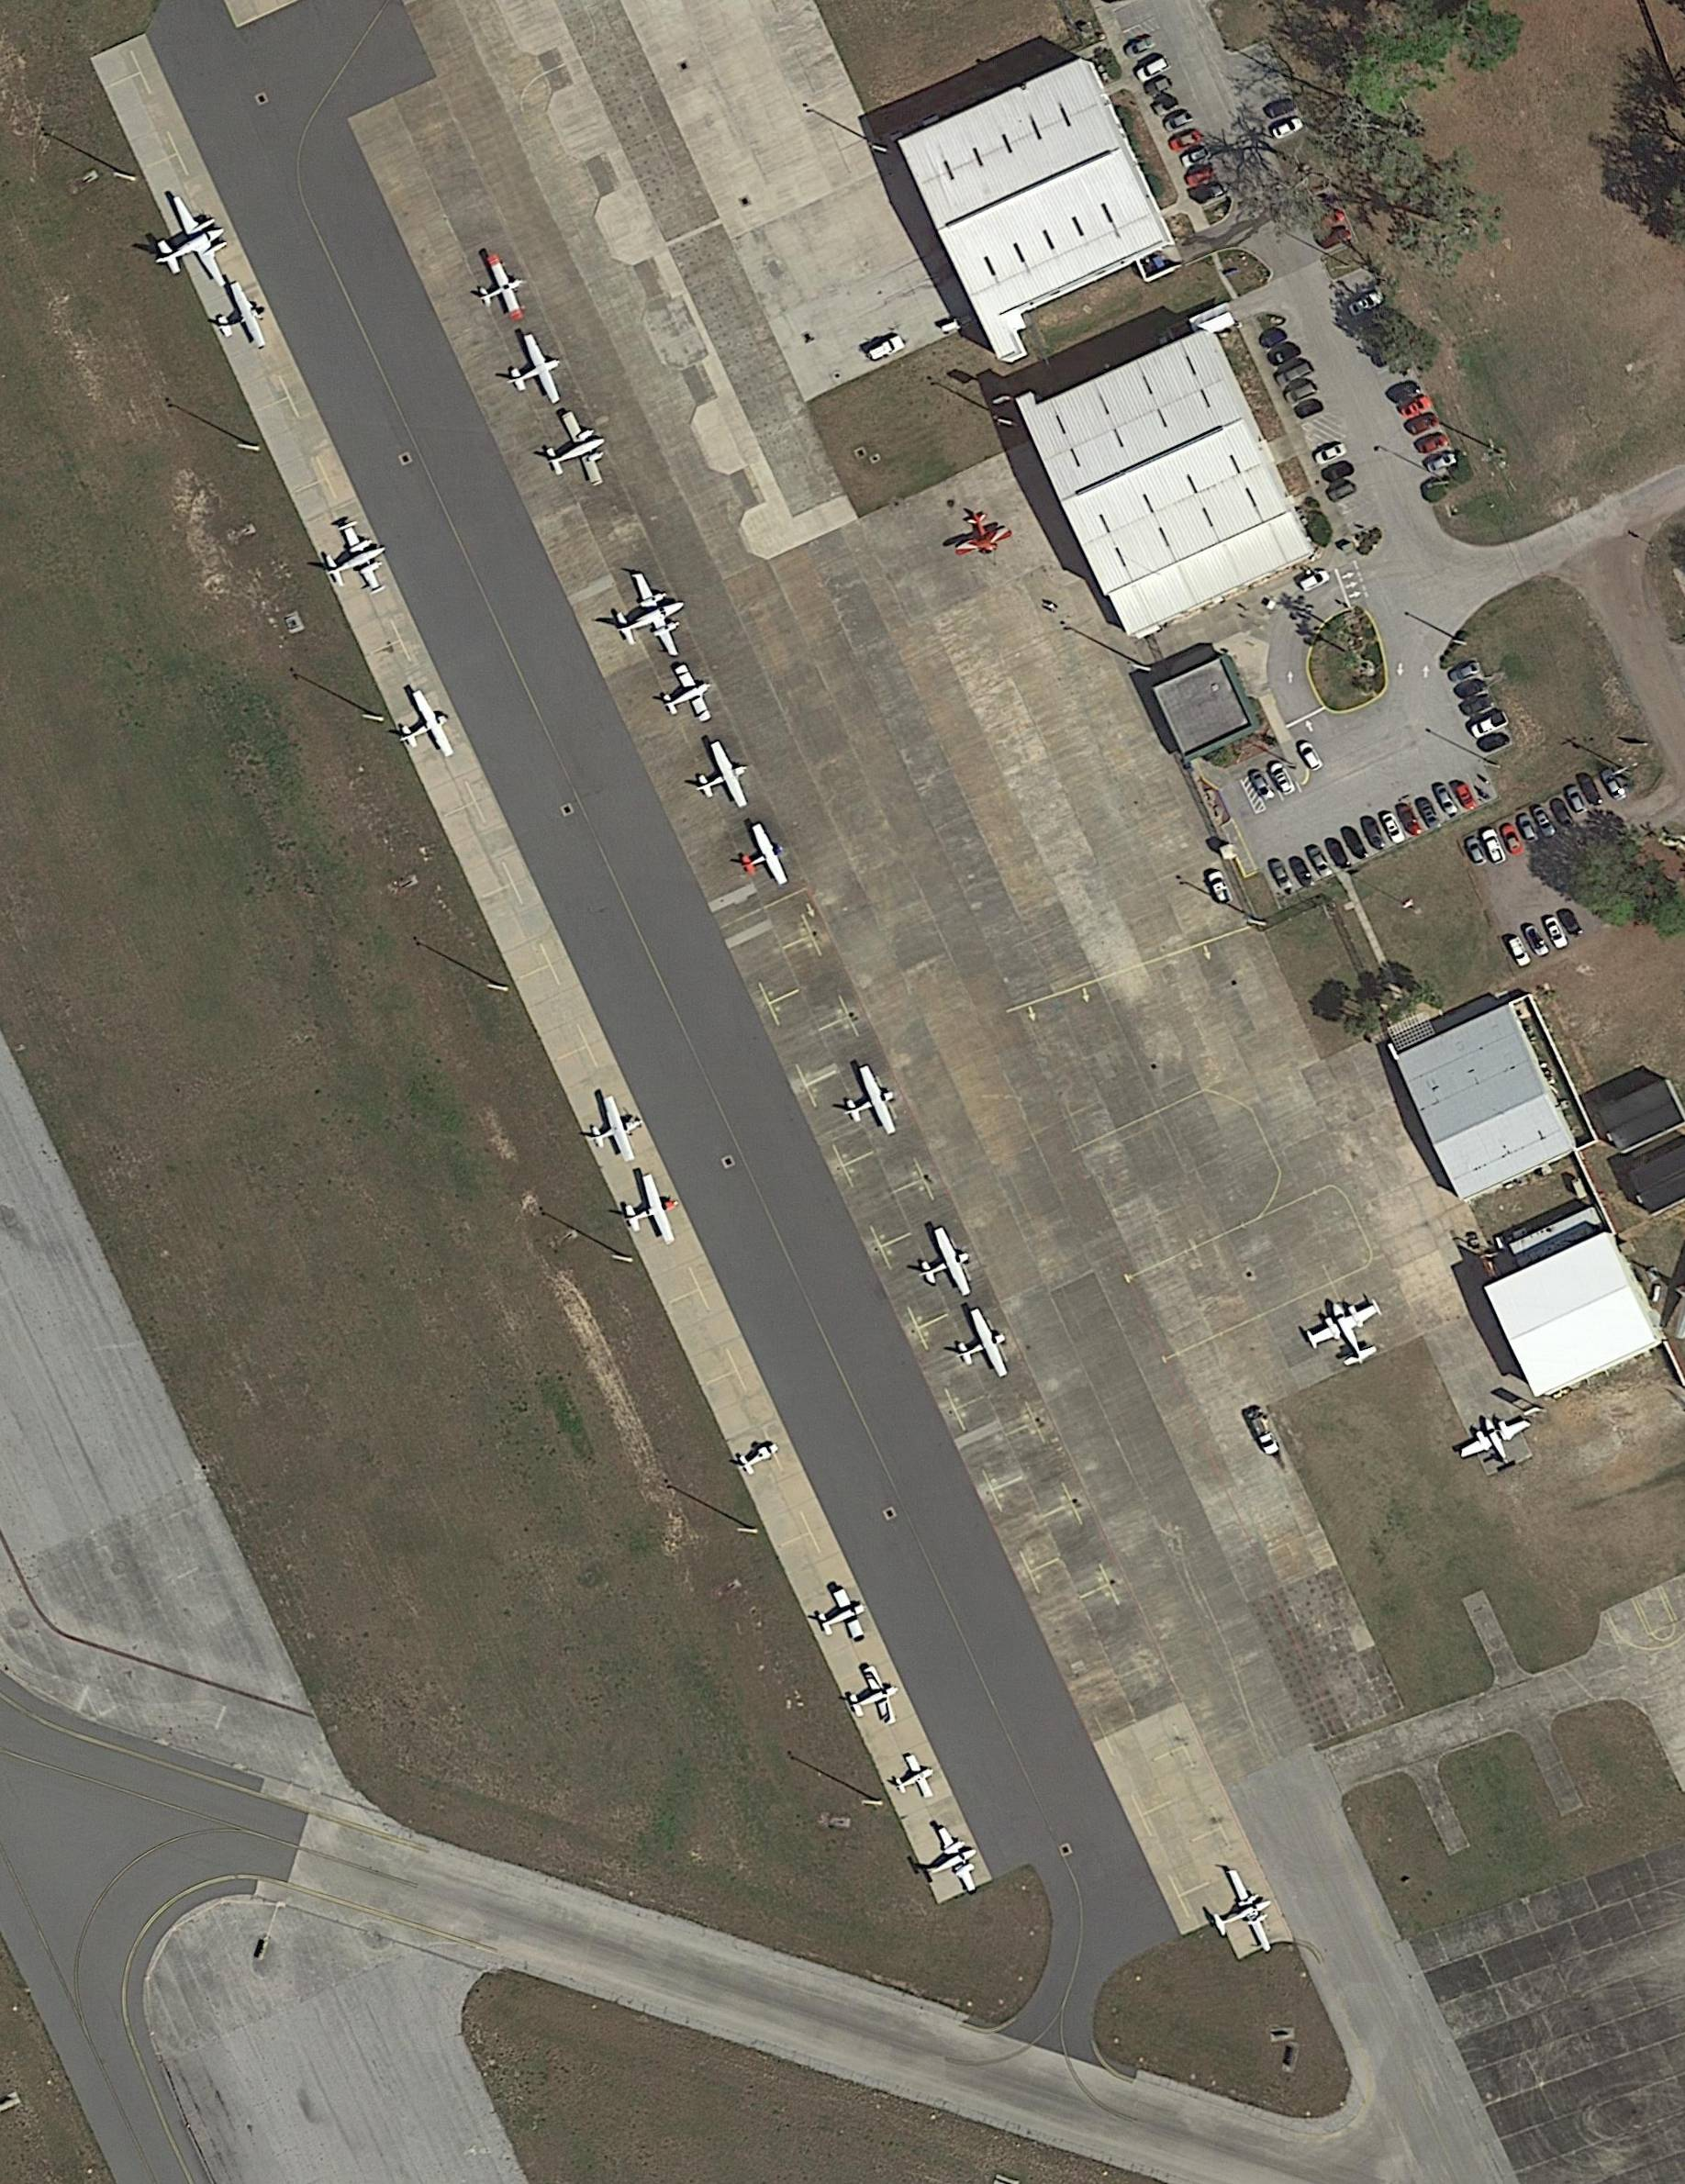large vehicle: (1244, 1407, 1283, 1460)
plane: (131, 184, 242, 308), (598, 561, 699, 673), (1196, 1864, 1287, 1968), (1299, 1287, 1396, 1380), (531, 404, 621, 503), (308, 513, 398, 609), (1450, 1402, 1545, 1485), (492, 327, 573, 418), (609, 1166, 689, 1258), (381, 685, 462, 773), (940, 1303, 1019, 1393), (828, 1058, 906, 1149), (681, 736, 761, 821), (904, 1223, 982, 1310), (910, 1821, 988, 1906), (577, 1090, 651, 1173), (202, 276, 274, 361), (464, 250, 536, 333), (650, 657, 722, 734), (839, 1660, 908, 1740), (727, 818, 796, 897), (809, 1584, 874, 1655), (943, 501, 1014, 565), (885, 1749, 943, 1811)
small vehicle: (1274, 358, 1317, 389), (1345, 287, 1386, 319), (1469, 710, 1510, 740), (1480, 827, 1510, 867), (1290, 393, 1327, 425), (1135, 55, 1173, 85), (1205, 867, 1235, 906), (1324, 834, 1354, 873), (1269, 757, 1297, 798), (1474, 726, 1510, 757), (1414, 428, 1451, 458), (1267, 338, 1304, 368), (1384, 377, 1421, 407), (1524, 922, 1552, 961), (1577, 772, 1605, 811), (1289, 855, 1319, 890), (1598, 768, 1628, 804), (1122, 34, 1159, 62), (1312, 439, 1349, 467), (1404, 409, 1441, 437), (1342, 825, 1370, 862), (1398, 391, 1432, 421), (1168, 126, 1204, 154), (1283, 379, 1319, 407), (1425, 450, 1460, 478), (1297, 738, 1326, 773), (1248, 766, 1276, 802), (1460, 692, 1496, 720), (1191, 177, 1227, 205), (1379, 811, 1407, 846), (1396, 802, 1425, 837), (1453, 674, 1490, 701), (1361, 816, 1388, 853), (1182, 161, 1216, 189), (1549, 798, 1577, 832), (1432, 784, 1460, 818), (1271, 115, 1306, 142), (1506, 934, 1533, 970), (1262, 96, 1297, 122), (1543, 915, 1570, 950), (1416, 796, 1443, 832), (1269, 858, 1296, 894), (1308, 846, 1335, 881), (1499, 821, 1526, 857), (1531, 805, 1558, 841), (1446, 658, 1480, 685), (1558, 906, 1584, 940), (1464, 834, 1489, 869), (1299, 566, 1329, 595), (1163, 108, 1195, 135), (1179, 143, 1211, 170), (1322, 458, 1354, 485), (1326, 480, 1358, 506), (1515, 812, 1540, 846), (1260, 326, 1290, 352), (1453, 781, 1478, 812), (1565, 786, 1589, 818)
